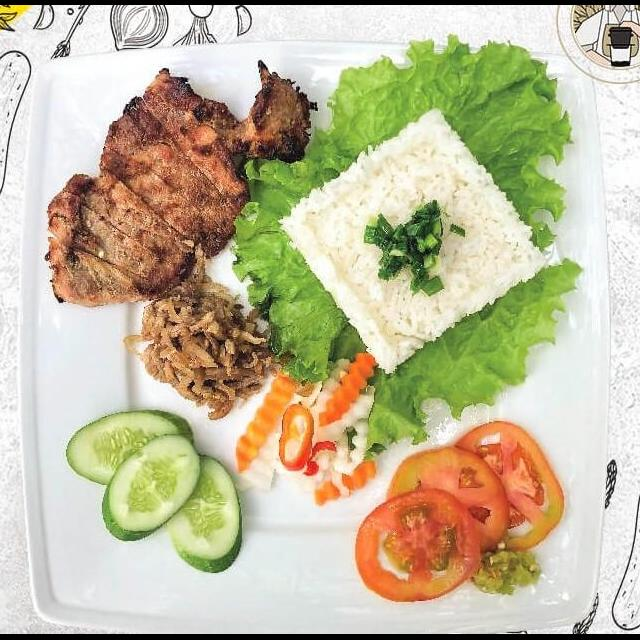bi: (119, 238, 298, 424)
com: (276, 105, 552, 378)
dua chua: (233, 348, 383, 510)
suon: (38, 52, 321, 312)
